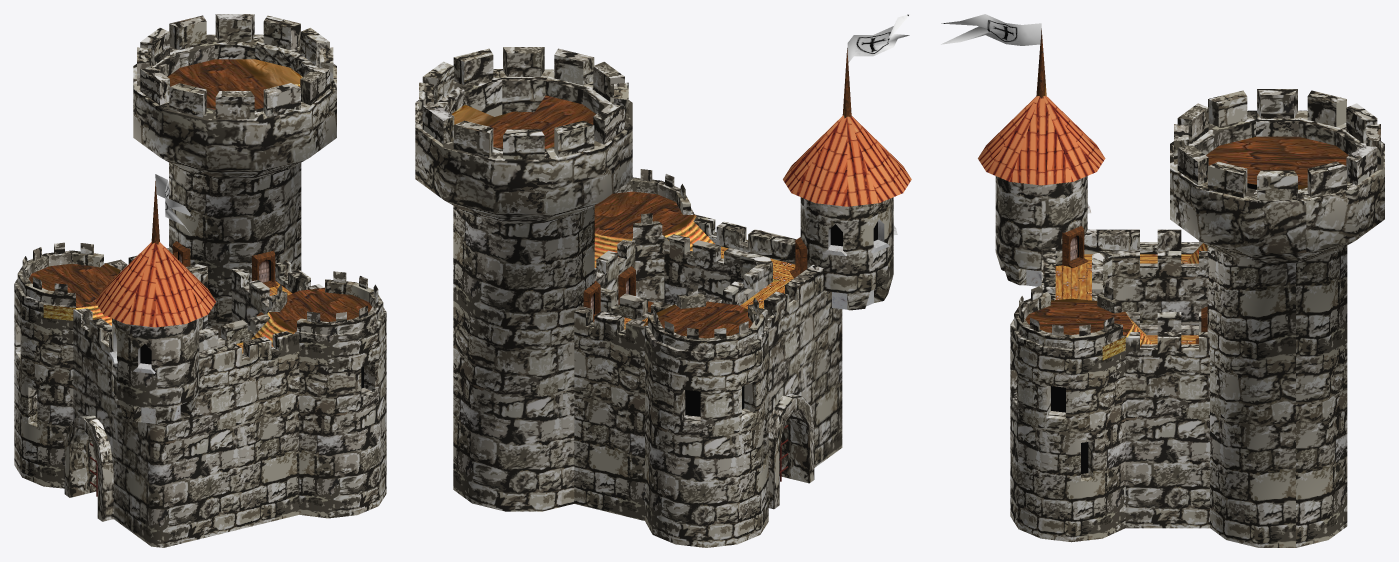
The model's file is cityHall_level2.FBX.
3 renders of one model, left to right at view 1: azimuth 30°, elevation 25°; view 2: azimuth 150°, elevation 25°; view 3: azimuth 270°, elevation 25°, orthographic. The views are drawn at different scales.
Parts seen in each view (by area): view 1: Box001, doors002; view 2: Box001; view 3: Box001, doors001.
Part boxes in pixels (x1,y1,x2,y2): Box001: (14, 14, 386, 547); doors002: (252, 250, 277, 287); Box001: (415, 14, 911, 547); Box001: (941, 14, 1384, 547); doors001: (1062, 225, 1088, 268).
Bounding box in the file's own units: 379 × 411 × 417.
